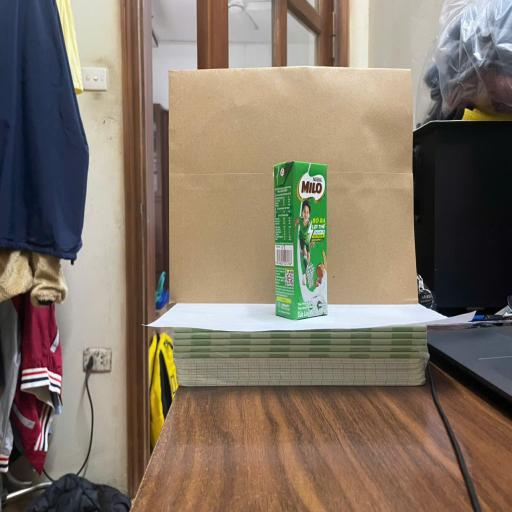milo: (273, 160, 326, 320)
